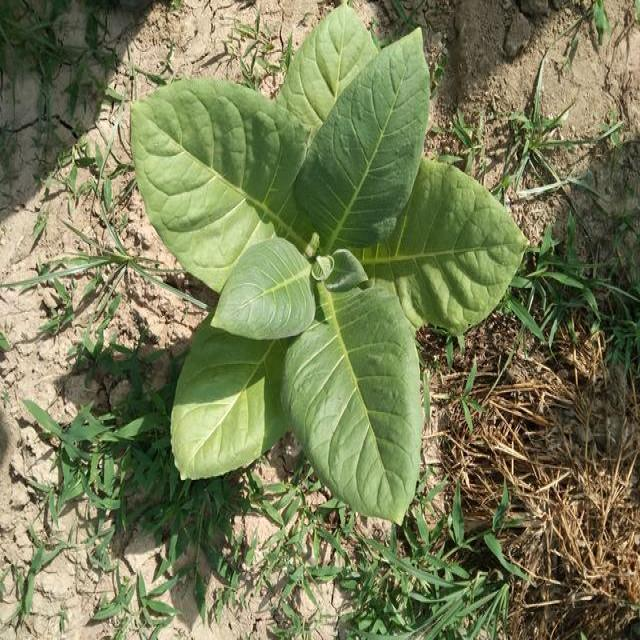crop: (126, 2, 531, 544)
